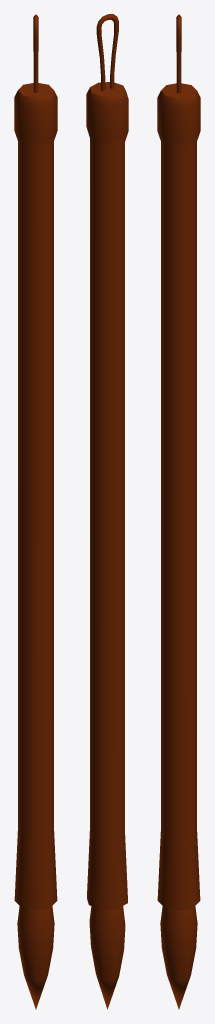
The model's file is brushes01.fbx.
The picture shows the model from 3 angles, left to right: view 1: azimuth 90°, elevation 25°; view 2: azimuth 210°, elevation 25°; view 3: azimuth 270°, elevation 25°; orthographic projection.
Parts seen in each view (by area): view 1: polySurface69; view 2: polySurface69; view 3: polySurface69.
Boxes of the visible parts, box(x1,y1,x2,y2) form: polySurface69: box(14, 14, 57, 1009); polySurface69: box(86, 14, 128, 1009); polySurface69: box(157, 14, 200, 1009).
Size of the model in its own units: 0.3344 by 8.42 by 0.3344.
